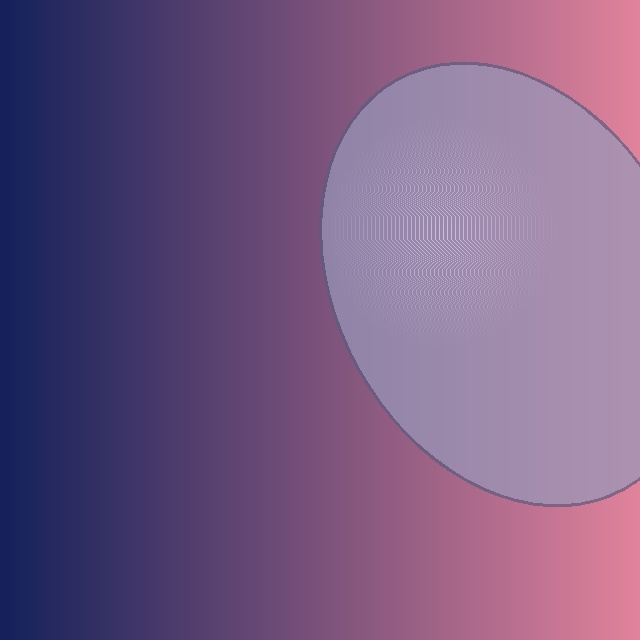lens: (321, 64, 640, 504)
